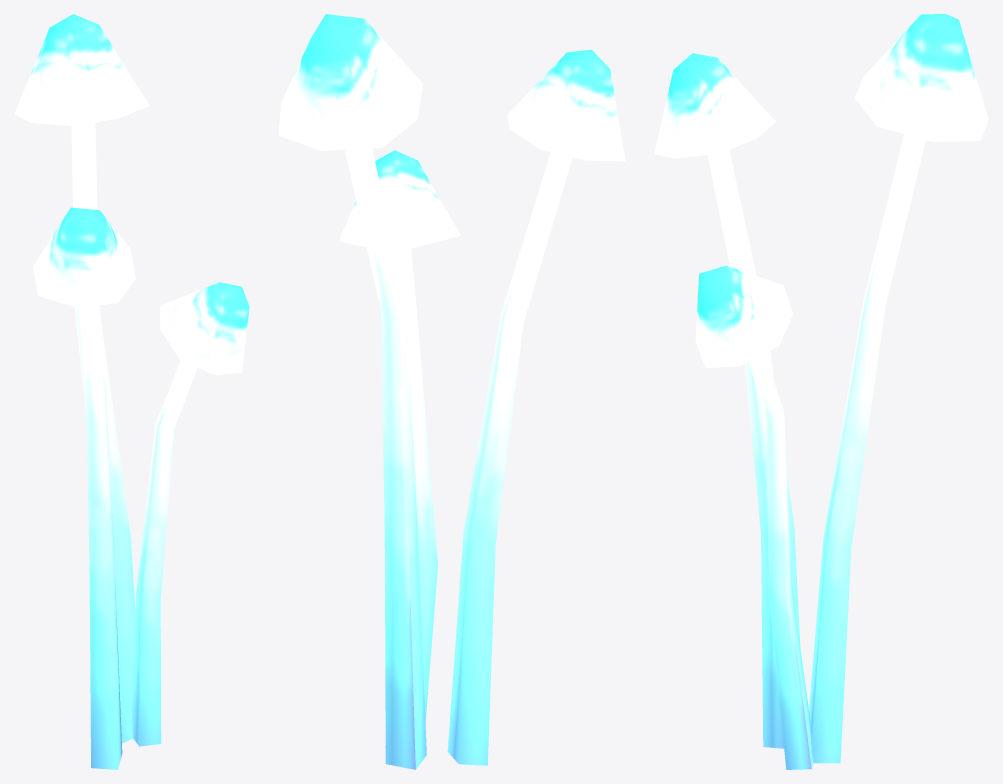
Rendered from SM_ENV_mushrooms_ancient_02_02.fbx.
The picture shows the model from 3 angles, left to right: view 1: azimuth 30°, elevation 25°; view 2: azimuth 150°, elevation 25°; view 3: azimuth 270°, elevation 25°; orthographic projection. The views are drawn at different scales.
Parts seen in each view (by area): view 1: SM_ENV_mushrooms_ancient_02_02_LOD0; view 2: SM_ENV_mushrooms_ancient_02_02_LOD0; view 3: SM_ENV_mushrooms_ancient_02_02_LOD0.
Boxes of the visible parts, x1,y1,x2,y2 form: SM_ENV_mushrooms_ancient_02_02_LOD0: [14, 14, 249, 769]; SM_ENV_mushrooms_ancient_02_02_LOD0: [278, 14, 625, 769]; SM_ENV_mushrooms_ancient_02_02_LOD0: [654, 14, 988, 769].
Size of the model in its own units: 9.94 by 29.98 by 12.06.
